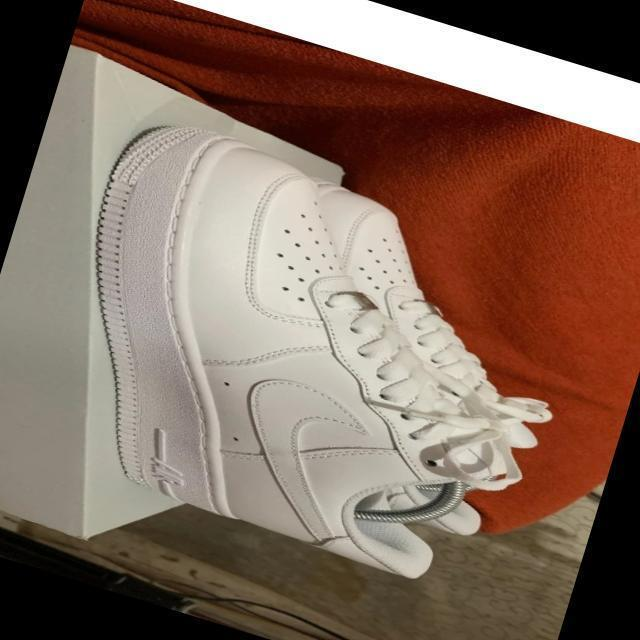nike original air force: (0, 101, 540, 592), (221, 168, 596, 526)
